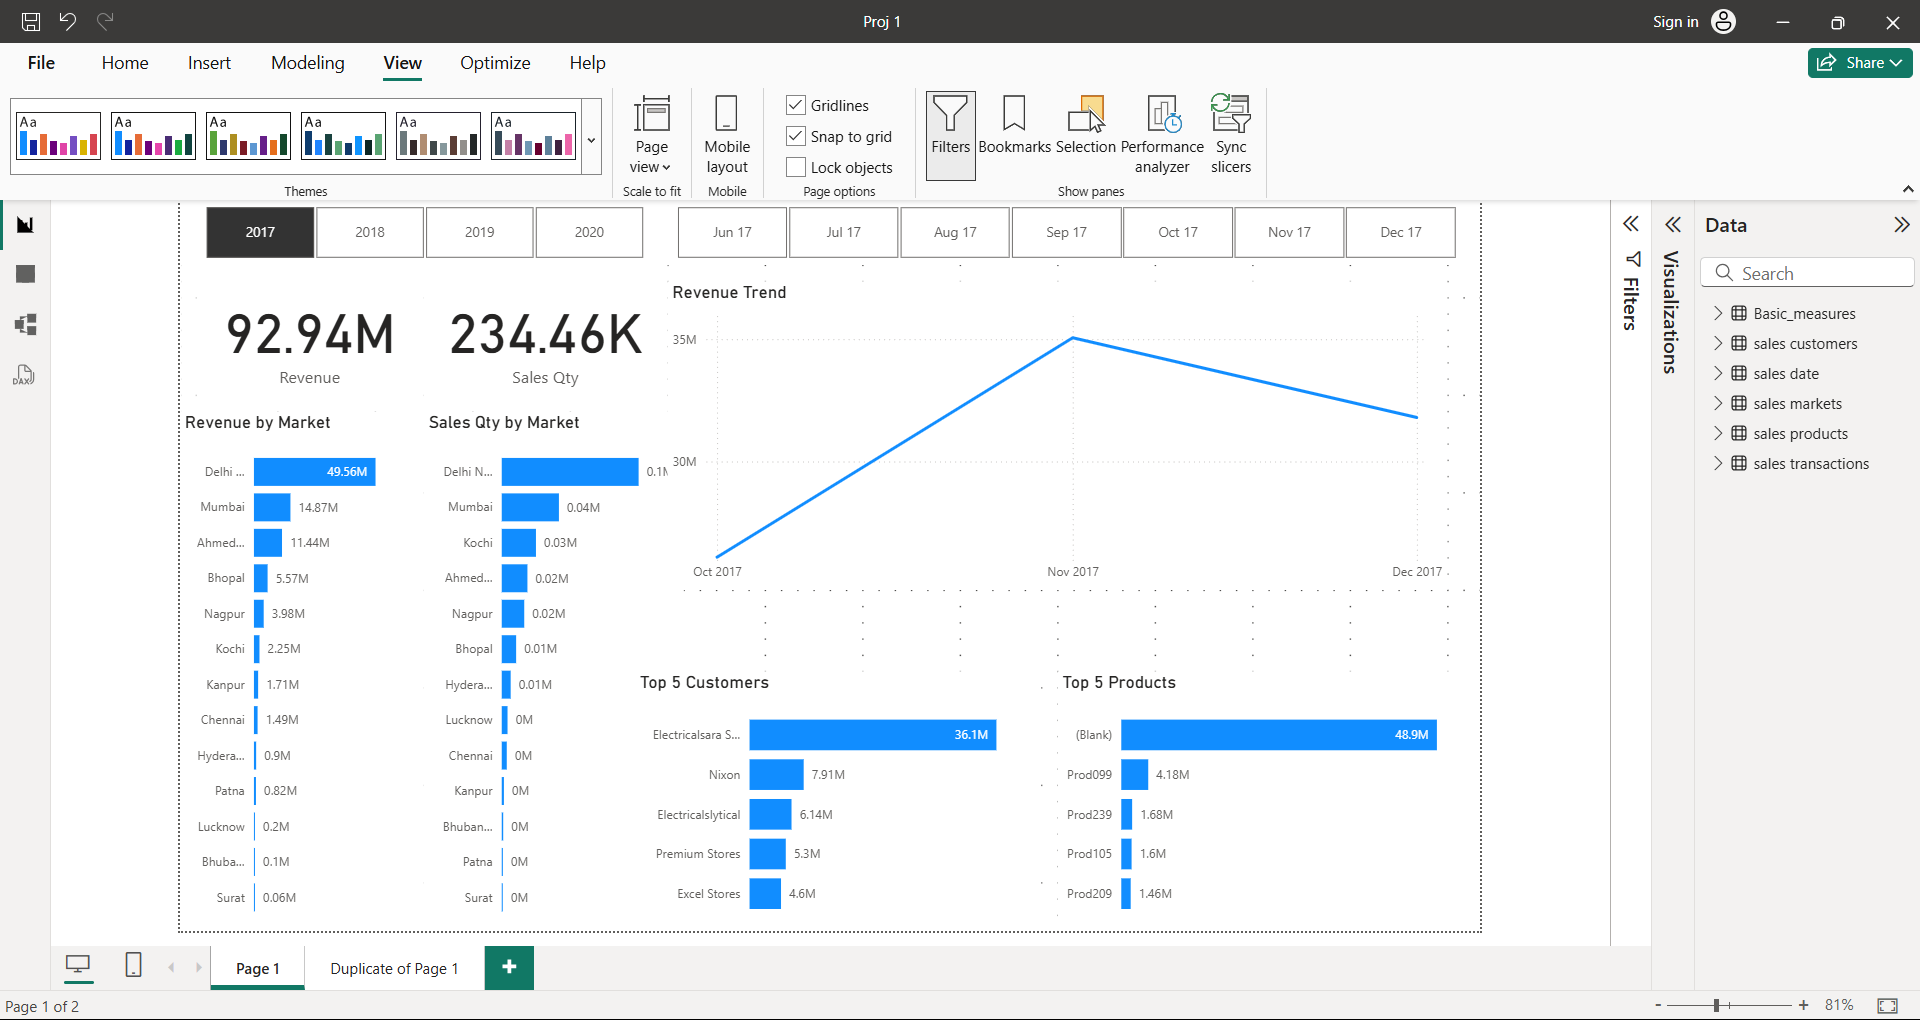

This screenshot's page, from the dashboard's own definition file:
{"tool":"powerbi","page":{"name":"Page 1","canvas":[1280,720],"ordinal":0},"visuals":[{"type":"card","fields":{"Values":["Basic_measures.Revenue"]},"box":[16,64,224,144],"z":0},{"type":"card","fields":{"Values":["Basic_measures.Sales Qty"]},"box":[240,64,240,144],"z":1000},{"type":"barChart","title":"Revenue by Market","fields":{"Y":["Basic_measures.Revenue"],"Category":["sales markets.markets_name"]},"box":[0,208,240,512],"z":2000},{"type":"barChart","title":"Sales Qty by Market","fields":{"Y":["Basic_measures.Sales Qty"],"Category":["sales markets.markets_name"]},"box":[240,208,256,512],"z":3000},{"type":"slicer","fields":{"Values":["sales date.year"]},"box":[0,0,480,64],"z":4000},{"type":"slicer","fields":{"Values":["sales date.cy_date"]},"box":[464,0,816,64],"z":5000},{"type":"barChart","title":"Top 5 Customers","fields":{"Y":["Basic_measures.Revenue"],"Category":["sales customers.custmer_name"]},"box":[448,464,400,256],"z":6000},{"type":"barChart","title":"Top 5 Products","fields":{"Y":["Basic_measures.Revenue"],"Category":["sales products.product_code"]},"box":[864,464,416,256],"z":7000},{"type":"lineChart","title":"Revenue Trend","fields":{"Y":["Basic_measures.Revenue"],"Category":["sales date.cy_date"]},"box":[480,80,768,304],"z":8000}]}

Visuals, with their boxes on the page's 1280x720 design canvas (x1, y1, x2, y2). These are canvas units, not pixel positions in the 1920x1020 screenshot, which may show the page scaled, cropped or inside an application window:
card - Basic_measures.Revenue: BBox(16, 64, 240, 208)
card - Basic_measures.Sales Qty: BBox(240, 64, 480, 208)
"Revenue by Market" barChart: BBox(0, 208, 240, 720)
"Sales Qty by Market" barChart: BBox(240, 208, 496, 720)
slicer - sales date.year: BBox(0, 0, 480, 64)
slicer - sales date.cy_date: BBox(464, 0, 1280, 64)
"Top 5 Customers" barChart: BBox(448, 464, 848, 720)
"Top 5 Products" barChart: BBox(864, 464, 1280, 720)
"Revenue Trend" lineChart: BBox(480, 80, 1248, 384)
